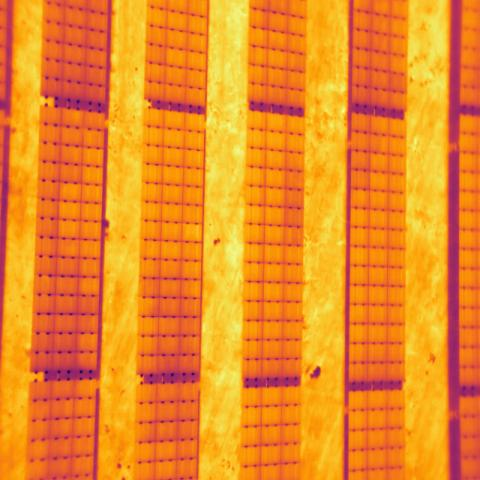fault: (181, 223, 204, 244)
